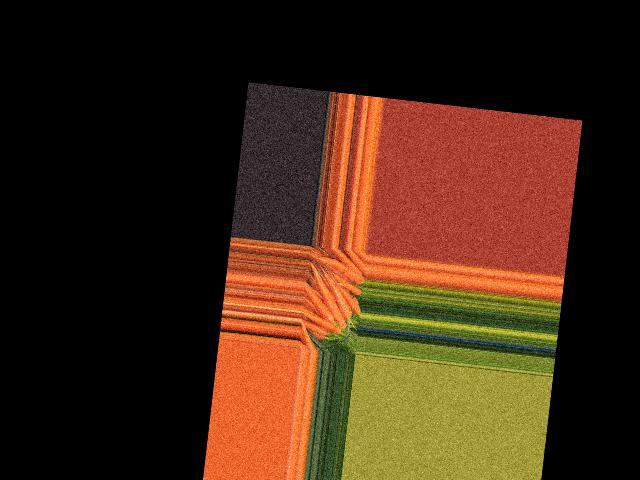carrot: (301, 282, 337, 322)
